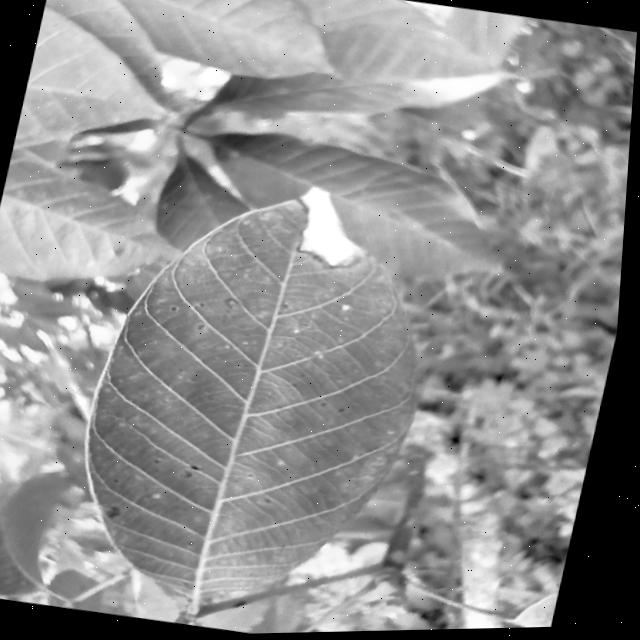Colletotrichum: (196, 465, 207, 472), (174, 307, 182, 313)
Leaf-Blight: (288, 184, 385, 274)
